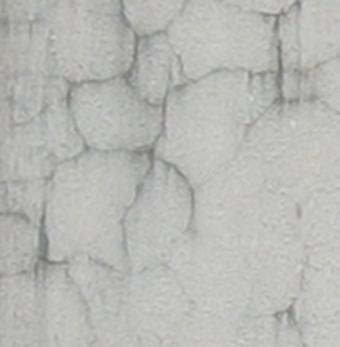fissura: (10, 2, 327, 344)
